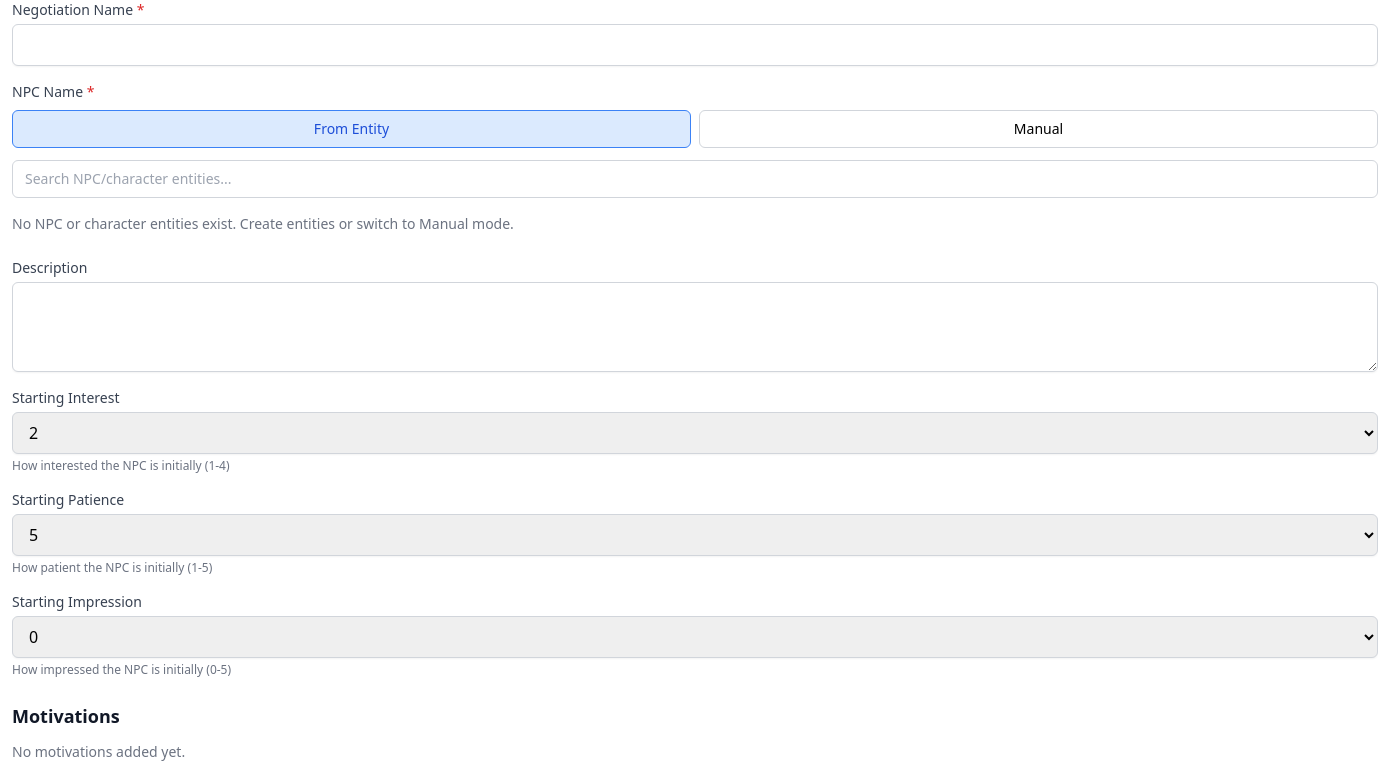
NegotiationSetup Component - NPC Name Input › should show validation error when NPC name is empty
Type "Test" into the field labelled "Negotiation Name *".
click(695, 45); type("Test")  # box [12,24,1378,66]
(page scrolled)
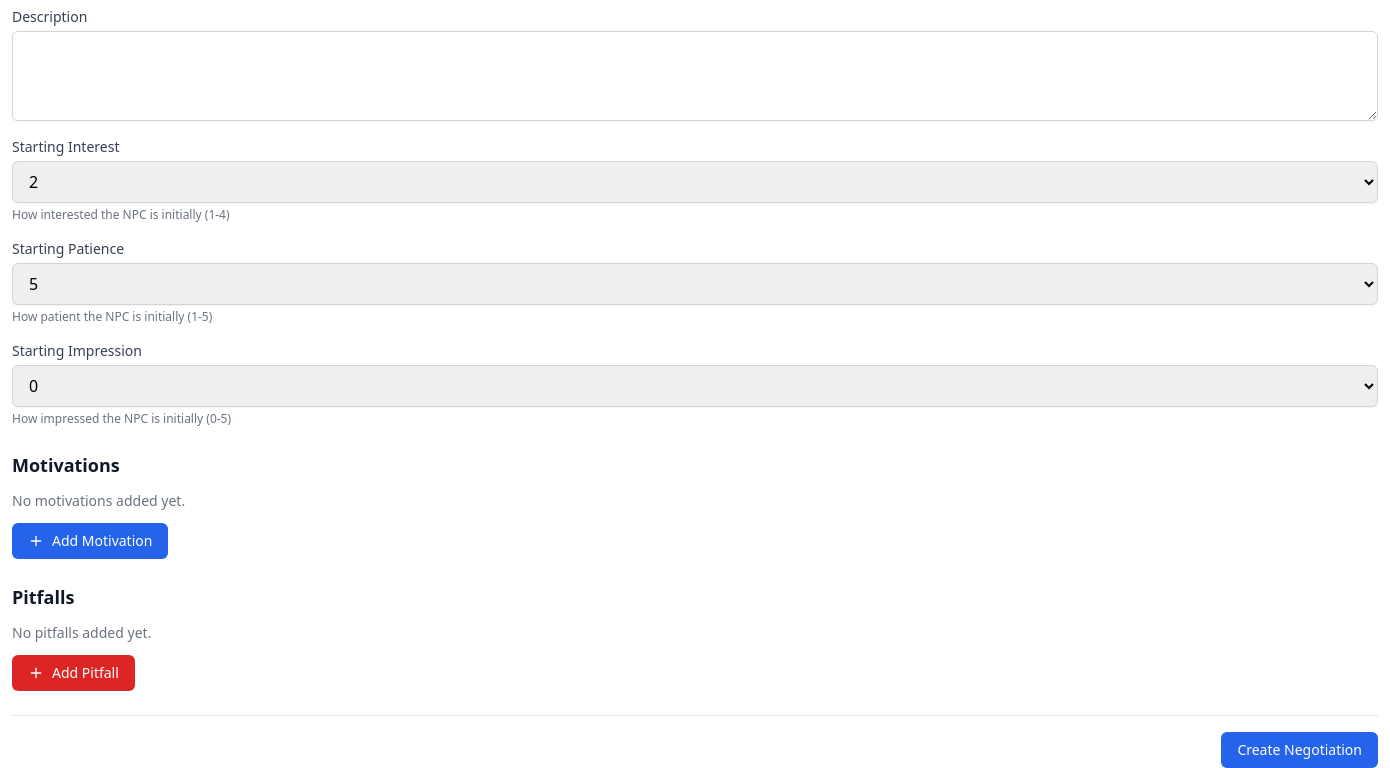
Click the button "Create Negotiation".
click(1300, 750)  # box [1221,732,1378,767]
(page scrolled)
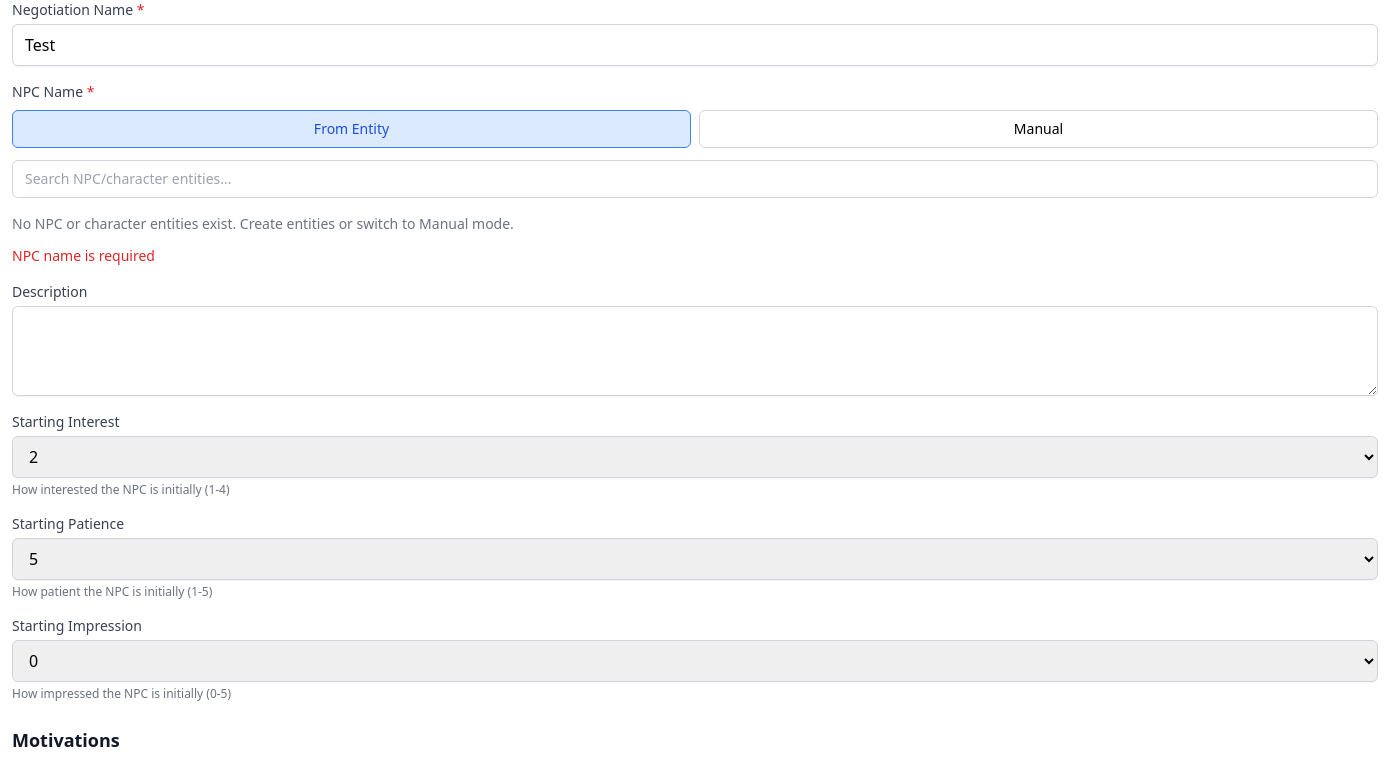
Check: the text "NPC name is required" is shown, box [12,246,155,265]
